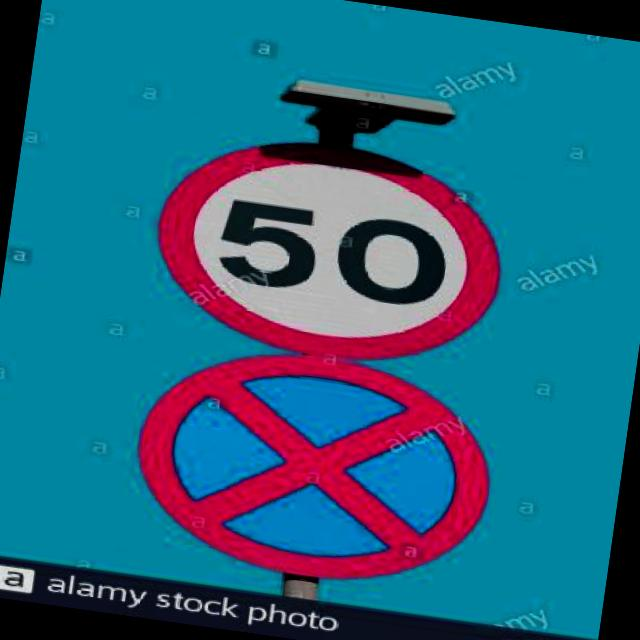Ograniczenie predkosci do 50: (162, 128, 500, 368)
Zakaz zatrzymywania sie: (136, 337, 498, 598)
